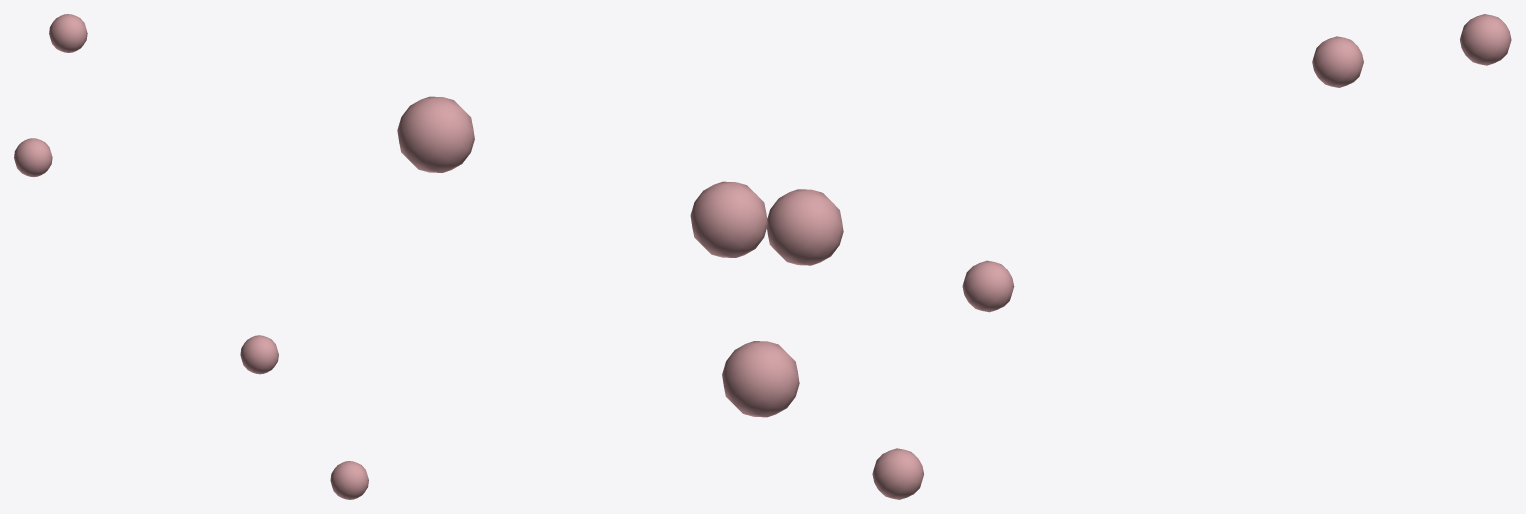
3 renders of one model, left to right at view 1: azimuth 30°, elevation 25°; view 2: azimuth 150°, elevation 25°; view 3: azimuth 270°, elevation 25°, orthographic. The views are drawn at different scales.
Visible parts, largest first — view 1: ZA_68535f559ebd378f; view 2: ZA_68535f559ebd378f; view 3: ZA_68535f559ebd378f.
Boxes of the visible parts, x1,y1,x2,y2 form: ZA_68535f559ebd378f: (14, 14, 368, 499); ZA_68535f559ebd378f: (397, 96, 843, 417); ZA_68535f559ebd378f: (872, 14, 1511, 499).
Bounding box in the file's own units: 0.0141 × 0.0245 × 0.0321.
